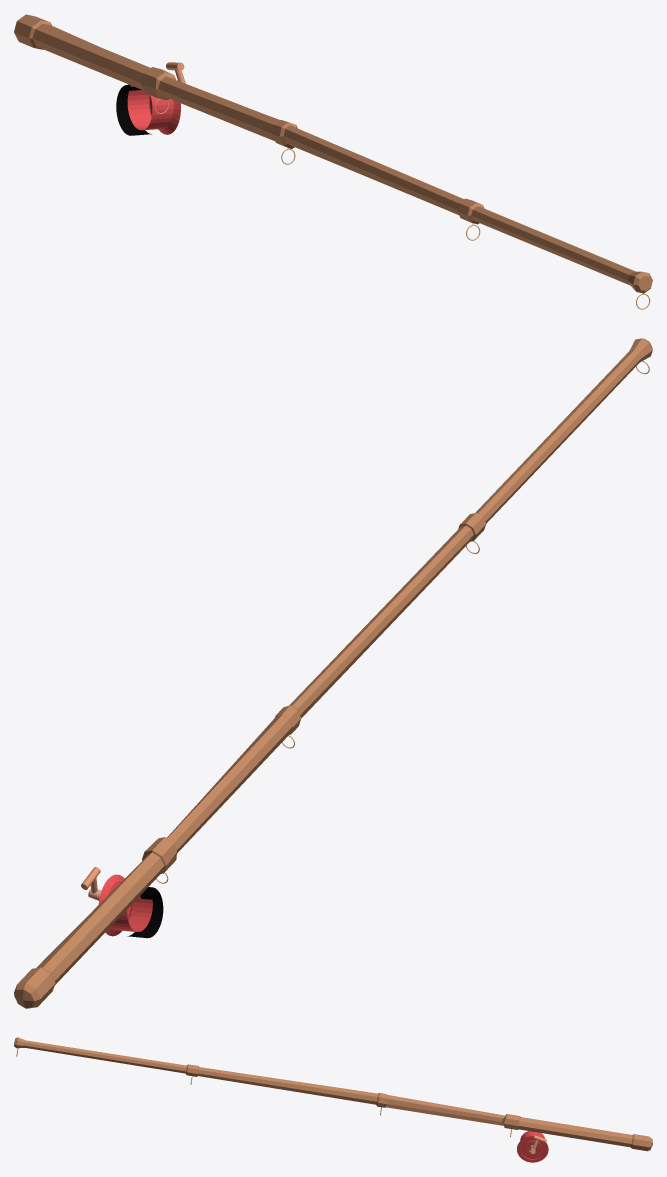
The model's file is simu-rod.fbx.
The picture shows the model from 3 angles, top to bottom: view 1: azimuth 30°, elevation 25°; view 2: azimuth 150°, elevation 25°; view 3: azimuth 270°, elevation 25°; orthographic projection. The views are drawn at different scales.
Visible parts, largest first — view 1: Cylinder; view 2: Cylinder; view 3: Cylinder.
Part boxes in pixels (x1,y1,x2,y2): Cylinder: [14, 14, 652, 309]; Cylinder: [14, 338, 652, 1008]; Cylinder: [14, 1037, 652, 1162].
Bounding box in the file's own units: 25.97 × 91.89 × 444.
